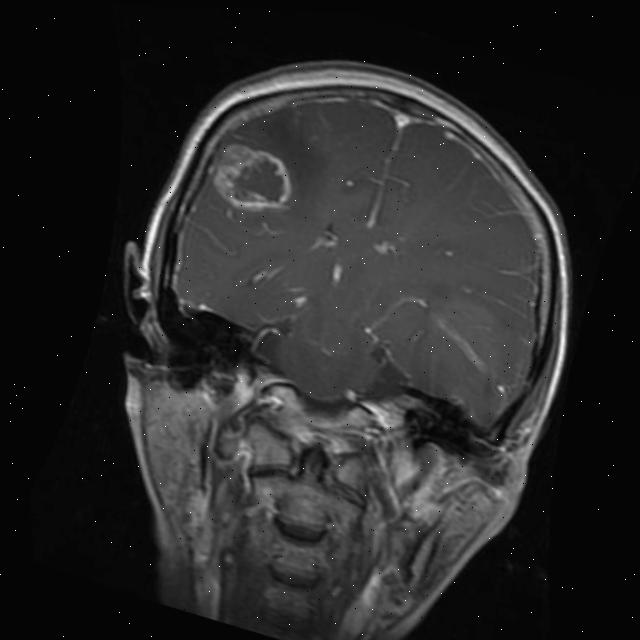Glioma: (198, 133, 303, 223)
